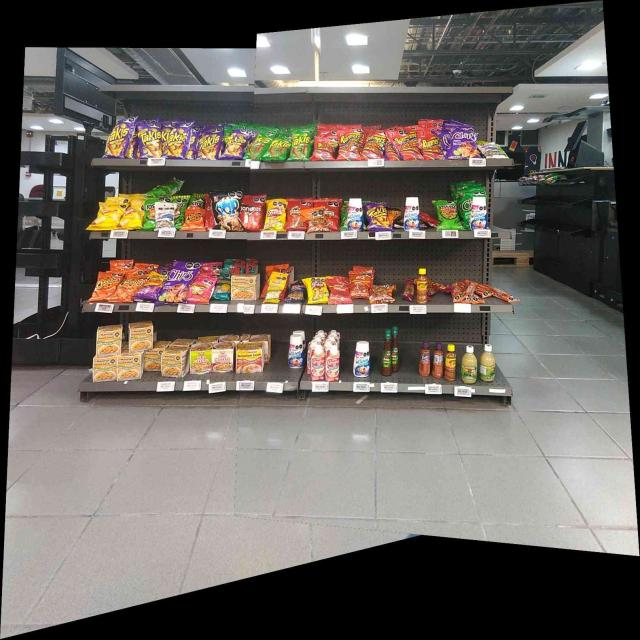bitzEnchilado90: (349, 270, 369, 298), (328, 280, 348, 304)
bokadosCacahuates: (288, 282, 303, 302)
botaneraChilito: (445, 344, 457, 381), (418, 270, 428, 304)
cheetosFlaminHot: (144, 273, 164, 298)
cheetosOriginal: (96, 273, 117, 300), (119, 277, 142, 301), (186, 207, 203, 232)
chipsFuego: (165, 261, 191, 302), (448, 125, 477, 158)
churrumais: (192, 276, 214, 303)
delPrimoSalsa: (461, 345, 477, 385), (480, 343, 496, 382)
doritosNacho: (240, 196, 264, 230)
fritosLimon: (266, 200, 285, 232), (304, 278, 327, 303)
leoCacahuates: (156, 202, 176, 232), (479, 143, 503, 158)
leoMix: (305, 210, 325, 232), (370, 284, 394, 302)
maruchanPollo: (162, 348, 188, 376), (231, 276, 258, 301), (96, 327, 120, 354), (130, 323, 152, 350), (118, 356, 142, 380), (94, 358, 116, 382), (144, 352, 160, 371)
maruchanRes: (236, 342, 264, 372)
nestleCarnation: (325, 346, 340, 381), (310, 345, 324, 380)
nestleLechera: (353, 340, 369, 377), (289, 335, 305, 369), (404, 197, 420, 230), (471, 197, 487, 230), (348, 198, 363, 230)
nissinCamaron: (190, 346, 210, 374)
nissinRes: (212, 344, 233, 372)
popKarameladas: (211, 192, 239, 230)
rancheritos: (287, 199, 304, 230), (326, 200, 339, 230)
runners: (338, 129, 362, 161), (419, 127, 442, 160), (392, 131, 418, 160), (363, 130, 386, 160), (314, 135, 336, 162)
sabritasOriginal: (95, 202, 122, 230), (123, 202, 141, 229)
salsaBufalo: (382, 330, 392, 376)
semillasCalabaza: (267, 275, 282, 304)
semillasGirasol: (216, 272, 230, 300)
tajinDulce: (418, 340, 431, 376), (432, 342, 444, 378)
takisFuego: (107, 120, 129, 159), (162, 125, 188, 158), (137, 124, 161, 157), (364, 202, 387, 230), (200, 128, 220, 160), (227, 130, 247, 158), (188, 127, 198, 160)
takisOriginal: (291, 126, 310, 160), (270, 132, 290, 161), (248, 134, 268, 160)
tostitos: (436, 200, 459, 230), (142, 198, 154, 229), (177, 196, 184, 229)
